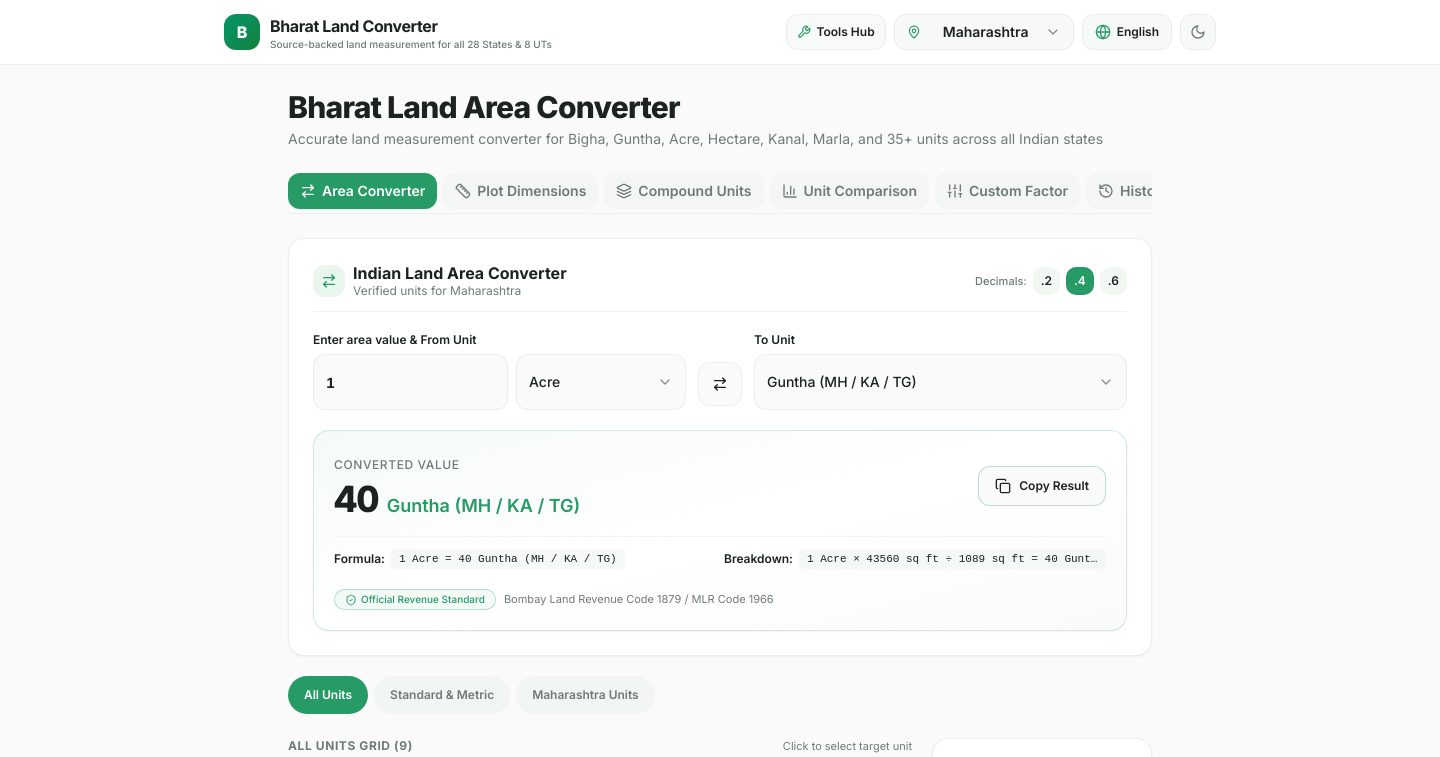
Test case: Bharat Land Converter — Functional UI & Workflow Tests › 3. Unit Swap Button exchanges From and To units without losing value
The image size is (1440, 757).
Later steps or results of the test are not shown.
Replace the text in the field labelled "Enter area value & From Unit" with "40" at (410, 382), box [313, 354, 508, 410]
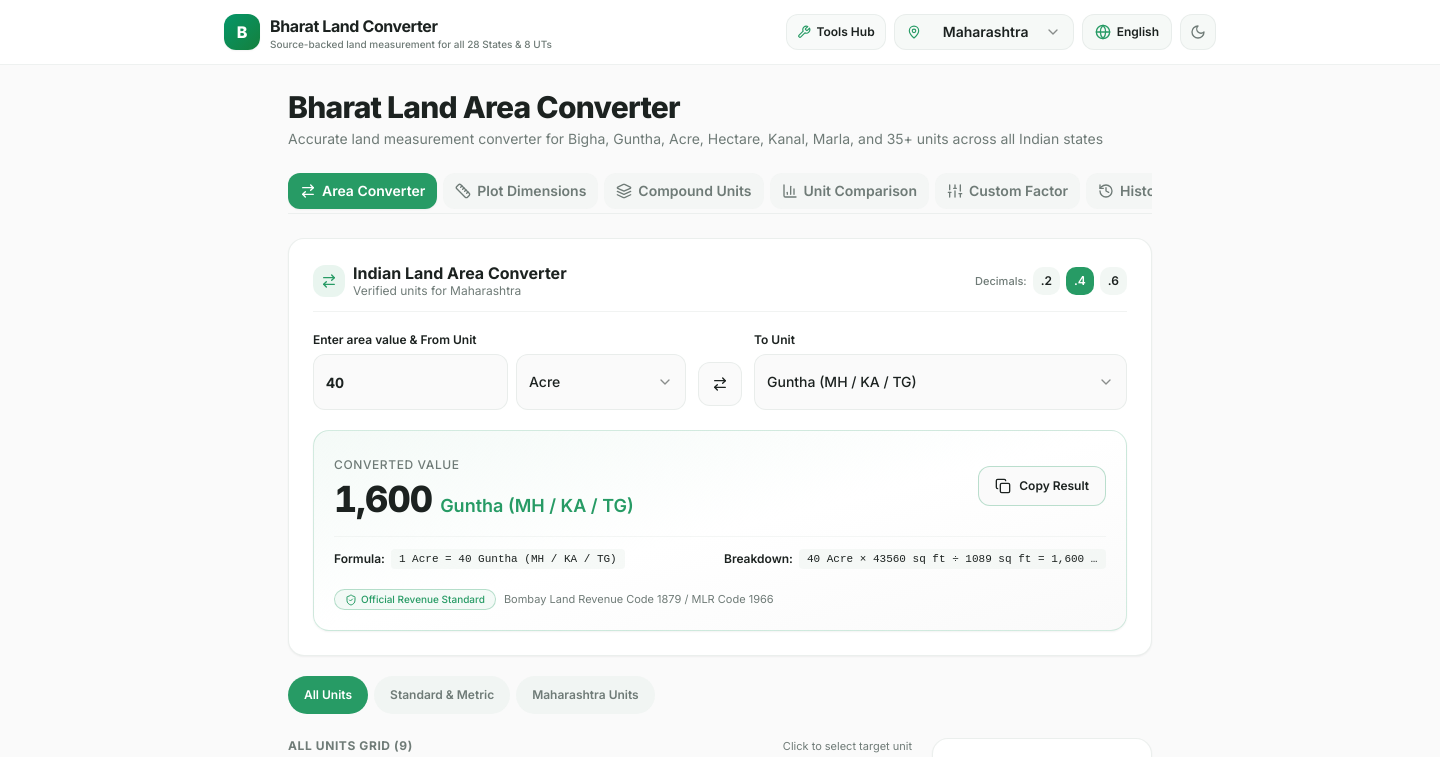
Expected: the text with test id "primary-result-value" reads "1,600", [334, 477, 432, 521]
